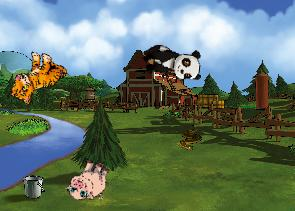panda: (140, 43, 203, 82)
pig: (63, 154, 114, 207)
tiger: (6, 45, 70, 113)
